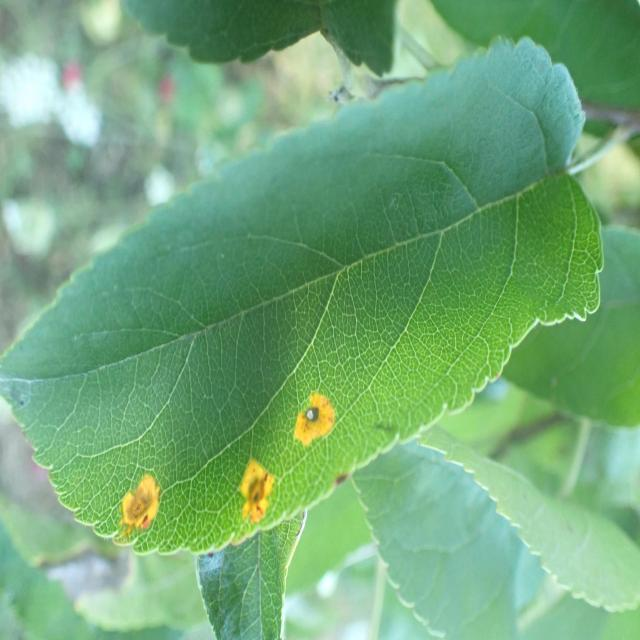rust: (0, 35, 605, 560)
